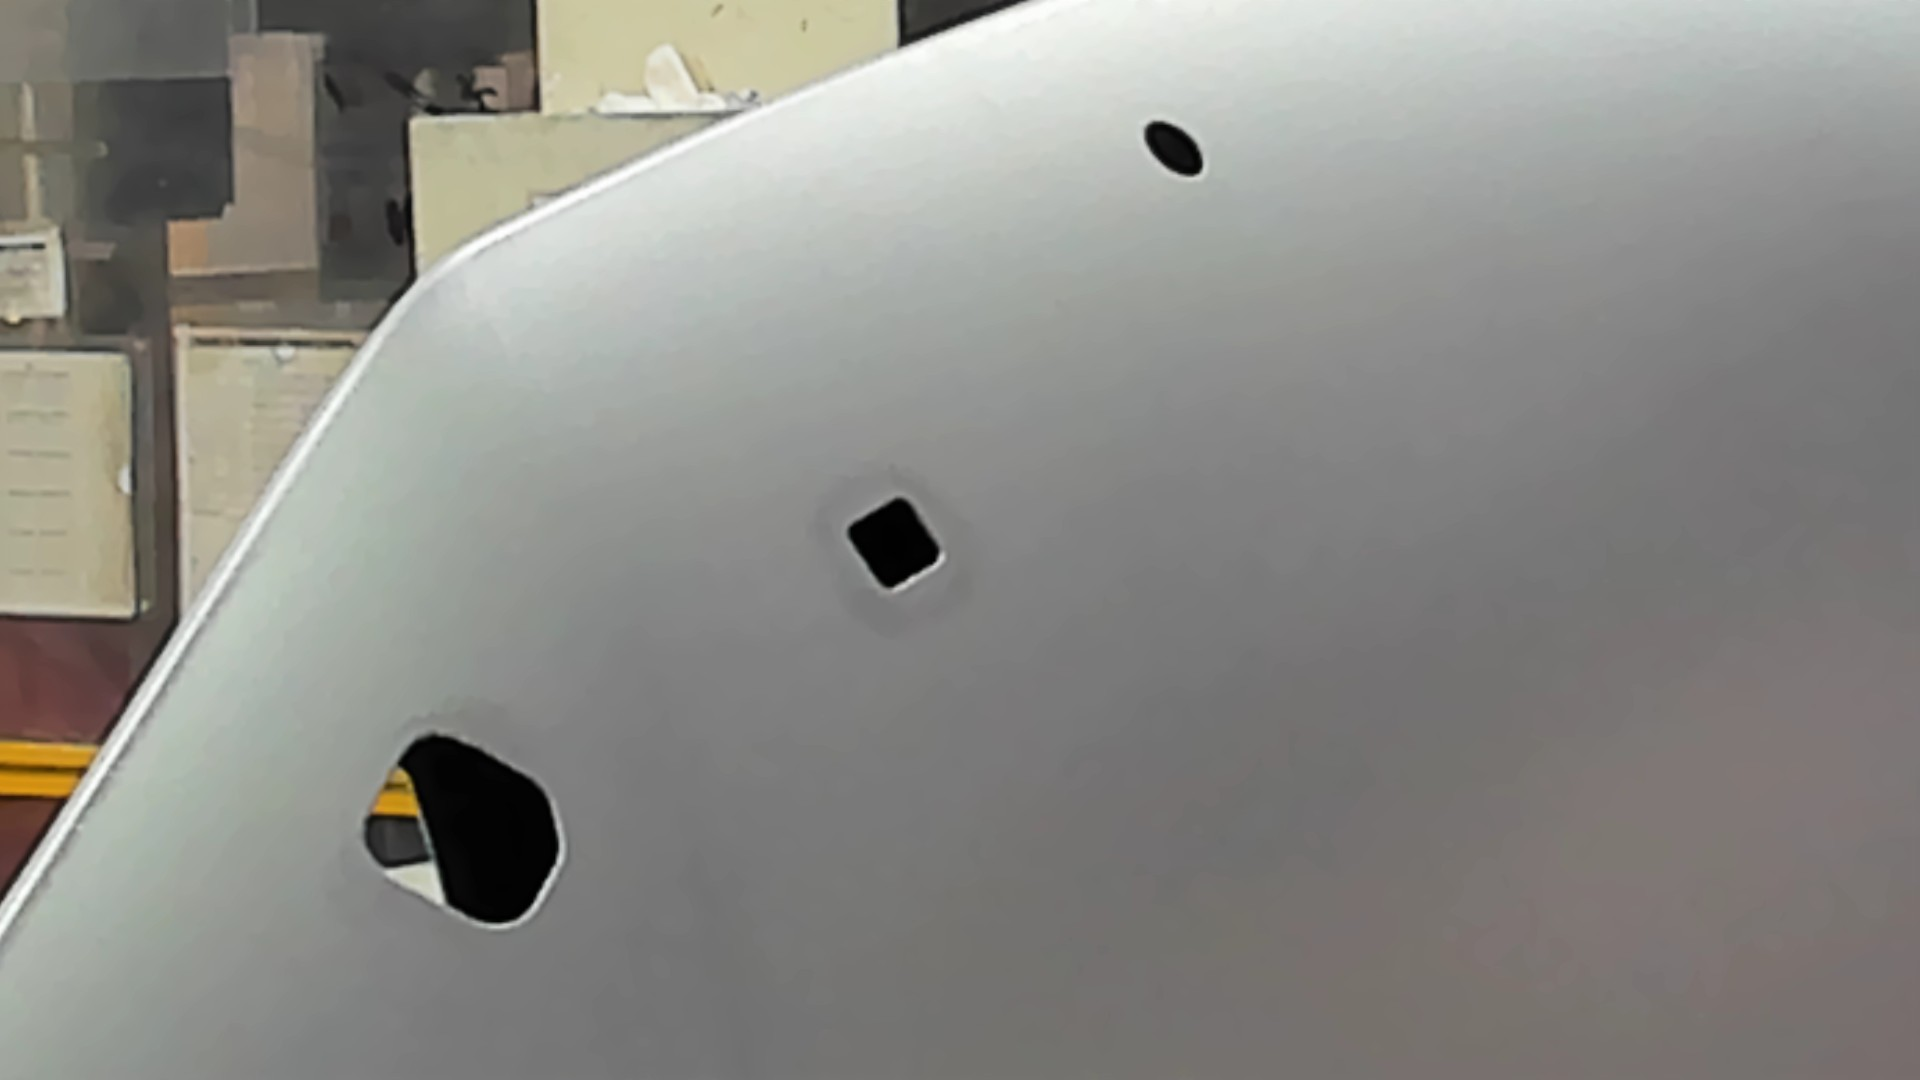chico: (1139, 115, 1211, 183)
grande: (355, 727, 568, 934)
mediano: (833, 495, 952, 600)
